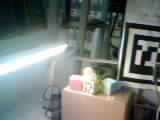duck: (68, 61, 104, 91)
